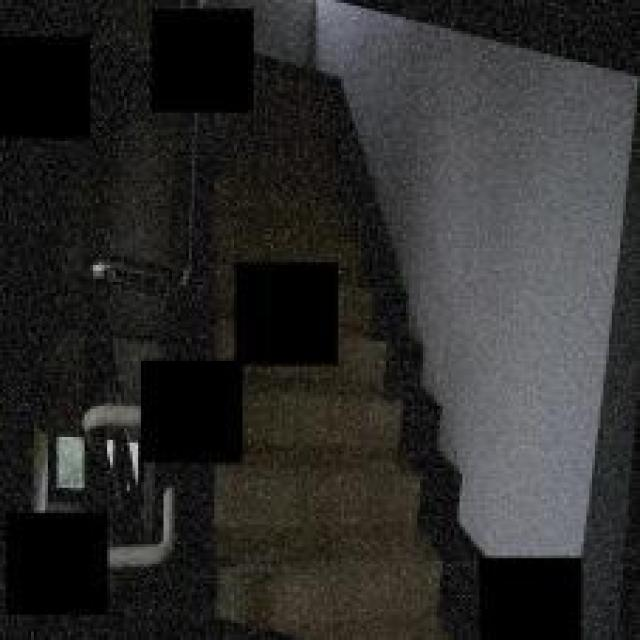upstair: (266, 390, 446, 638)
